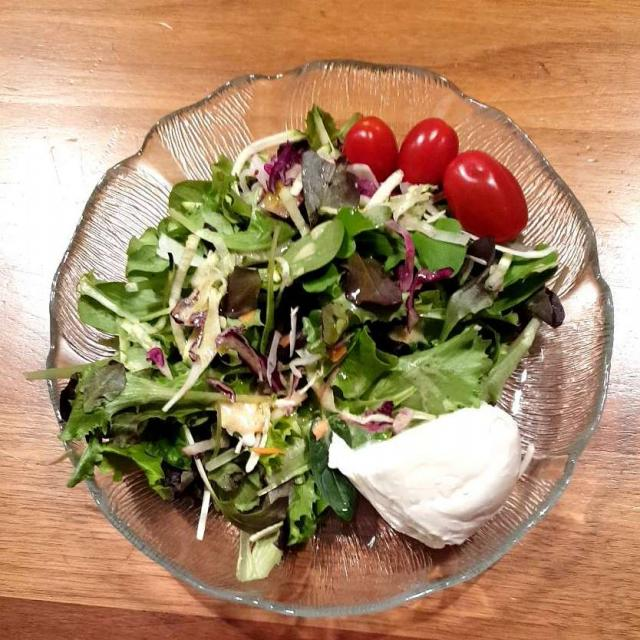mixed-salad-chopped-without-sauce: (77, 131, 557, 557)
mozzarella: (291, 394, 522, 557)
tomato-raw: (338, 113, 538, 235)
